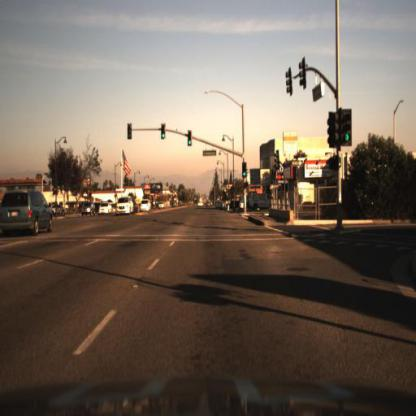car: (1, 184, 59, 249), (115, 194, 136, 217), (250, 194, 274, 212), (80, 198, 97, 222), (49, 202, 68, 220), (116, 199, 134, 217), (97, 200, 112, 218), (98, 202, 114, 218), (138, 198, 154, 213), (138, 198, 152, 214)
trafficLight: (127, 123, 133, 140)
trafficLight-Green: (159, 124, 167, 144), (243, 159, 251, 178), (186, 138, 194, 154), (161, 131, 169, 143), (186, 125, 191, 142), (241, 170, 247, 182)
